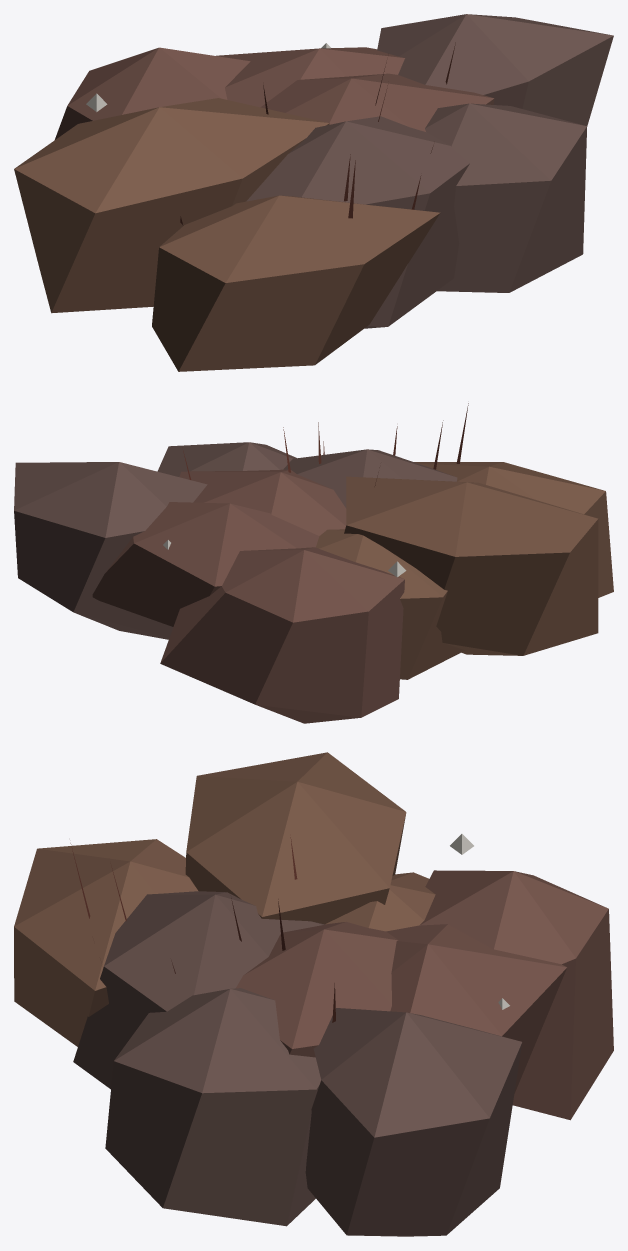
The model's file is buckbrush-high.glb.
3 renders of one model, top to bottom at view 1: azimuth 30°, elevation 25°; view 2: azimuth 150°, elevation 25°; view 3: azimuth 270°, elevation 25°, orthographic. The views are drawn at different scales.
Parts seen in each view (by area): view 1: buckbrush-high / foliage, buckbrush-high / wood; view 2: buckbrush-high / foliage, buckbrush-high / wood; view 3: buckbrush-high / foliage.
Boxes of the visible parts, x1,y1,x2,y2 form: buckbrush-high / foliage: [14, 14, 613, 371]; buckbrush-high / wood: [180, 42, 455, 225]; buckbrush-high / foliage: [14, 442, 613, 723]; buckbrush-high / wood: [182, 403, 468, 486]; buckbrush-high / foliage: [14, 752, 613, 1236].
Size of the model in its own units: 2.01 by 0.7438 by 1.47.
